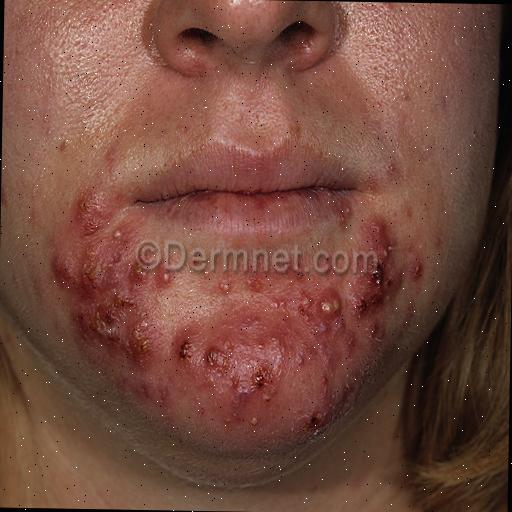Skin_Lesion: (19, 169, 176, 379), (360, 222, 416, 346), (286, 276, 348, 342), (177, 315, 226, 394), (303, 364, 356, 436), (242, 350, 290, 428), (214, 276, 272, 304), (338, 196, 360, 232)
